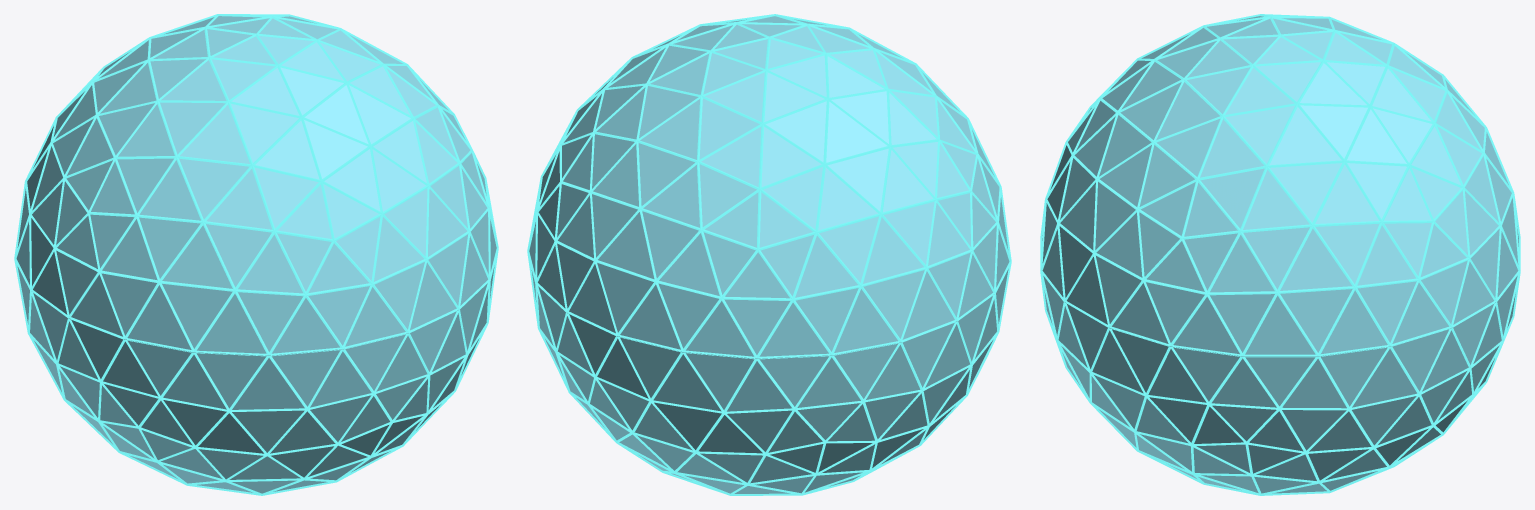
Rendered from techshieldFIX.glb.
3 views of the same model, side by side, from view 1: azimuth 30°, elevation 25°; view 2: azimuth 150°, elevation 25°; view 3: azimuth 270°, elevation 25° (orthographic).
Parts seen in each view (by area): view 1: tech_shield; view 2: tech_shield; view 3: tech_shield.
Part boxes in pixels (x1,y1,x2,y2): tech_shield: [14, 14, 498, 495]; tech_shield: [527, 14, 1011, 495]; tech_shield: [1040, 14, 1520, 495].
Size of the model in its own units: 7.53 by 7.62 by 7.53.
